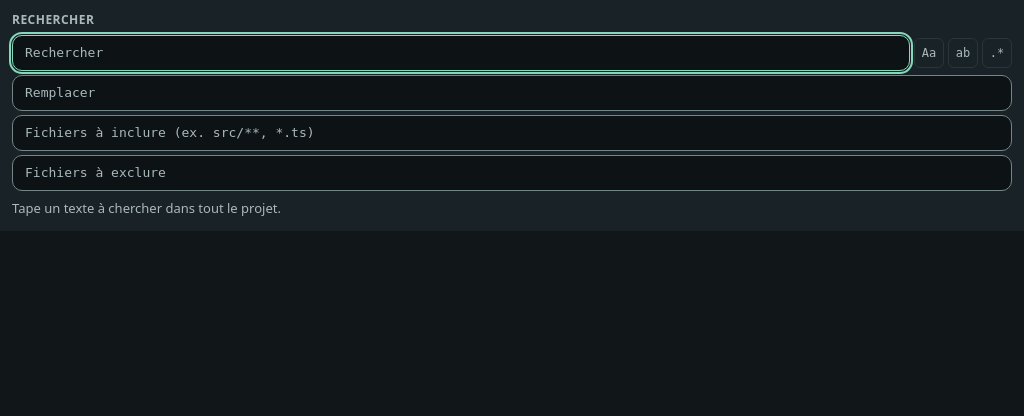
ProjectSearch › groups results by file with counts and highlighted matches
Type "todo" into the field labelled "Rechercher" at (461, 53), box [12, 35, 910, 71]
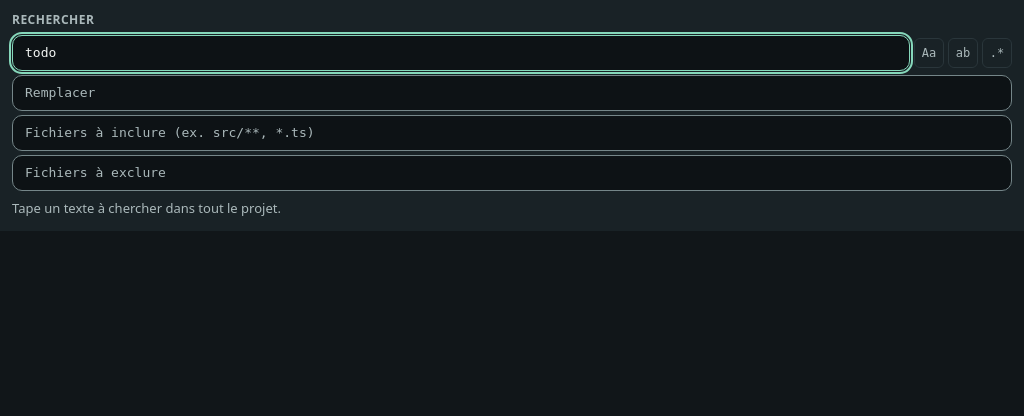
Submit the form named "Rechercher", box [12, 35, 1012, 191]
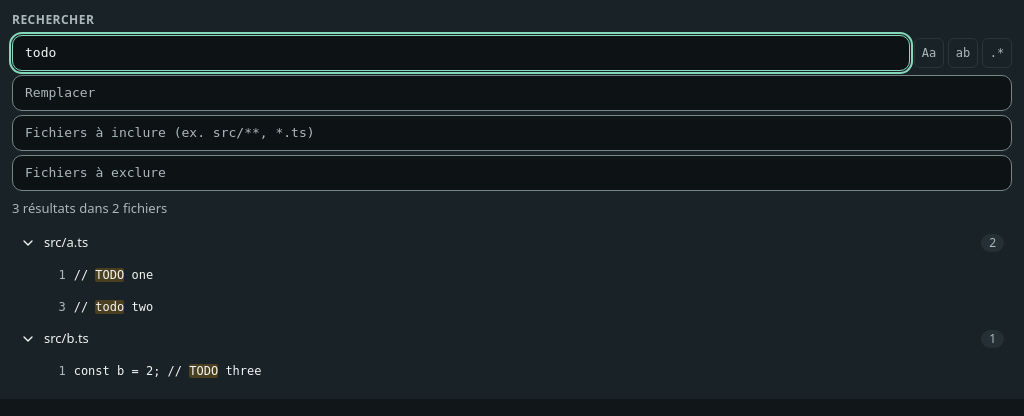
Expected: the text "3 résultats dans 2 fichiers" is shown, [12, 199, 167, 217]
Expected: the button with aria-label "src/b.ts, 1 résultat" is shown, [12, 322, 1012, 354]
Click the button with aria-label "src/a.ts, 2 résultats" at (66, 242), box [12, 226, 1012, 258]
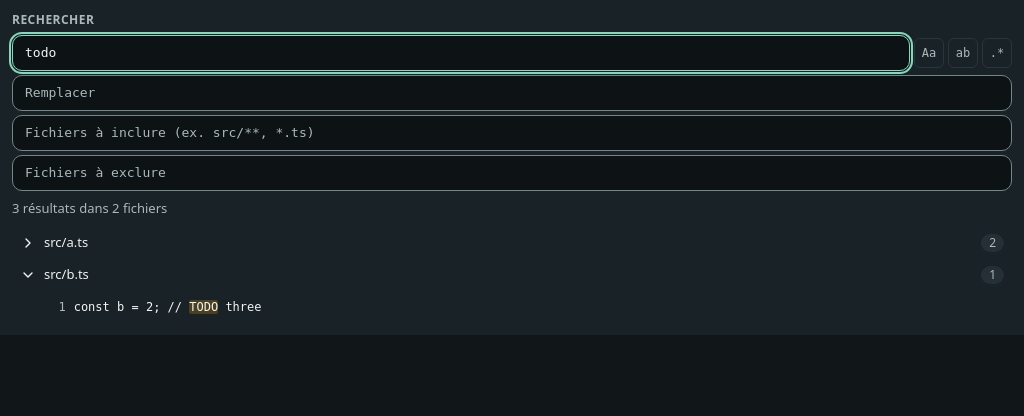
Expected: the button with aria-label "src/a.ts, 2 résultats" is collapsed, [12, 226, 1012, 258]
